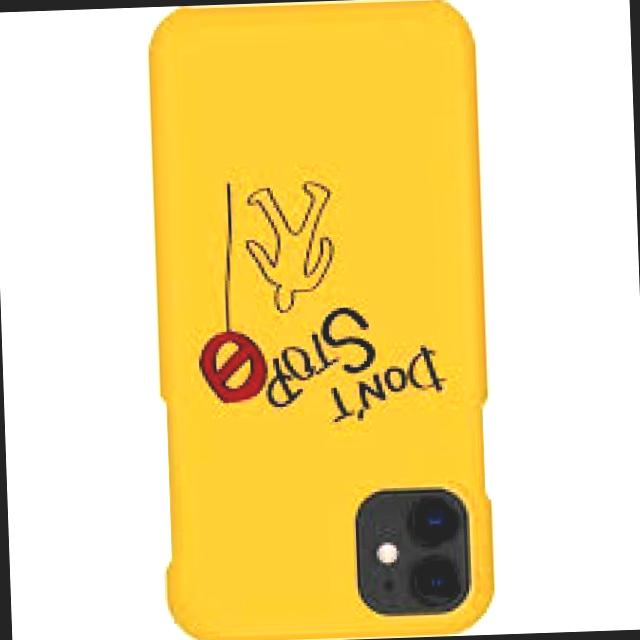lens_back: (408, 495, 461, 539), (411, 554, 459, 602)
phone: (141, 0, 493, 640)
